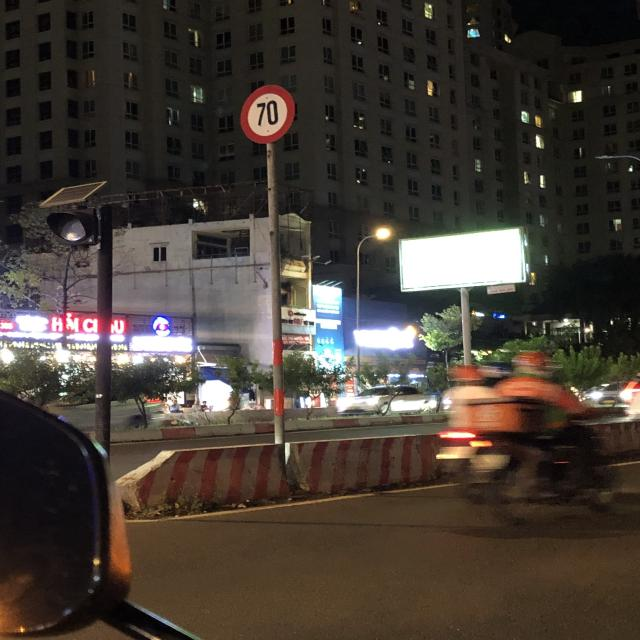Bien bao toc do toi da cho phep: (237, 80, 300, 144)
